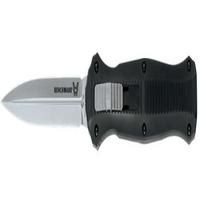knife: (2, 50, 197, 147)
